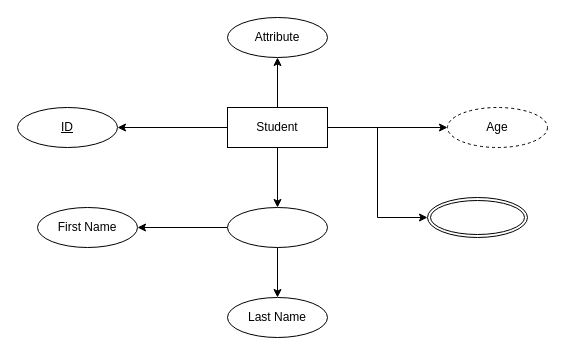
This 565x355 diagram has some shape labels left out. The centre of each missing label's shape, as x and y in pixels:
"Email" goes at point 477,217.
"Name" goes at point 277,227.
